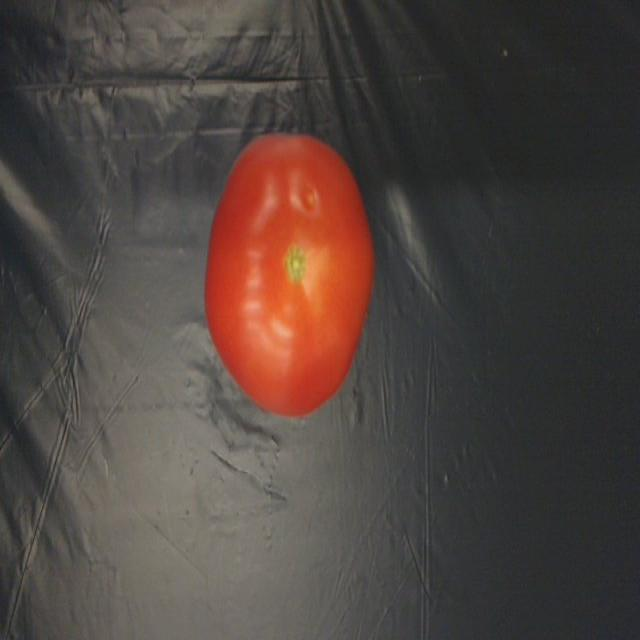sari: (193, 97, 376, 448)
